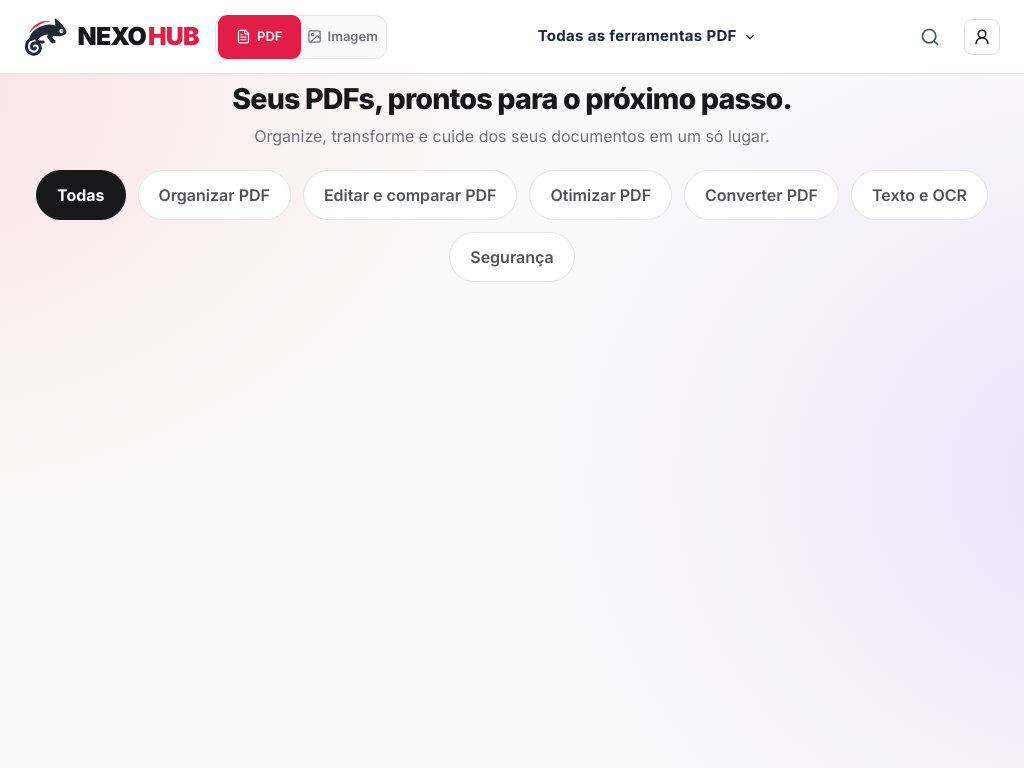
it: App › filtra as ferramentas pelas categorias do topo
Click the button "Organizar PDF": (214, 195) [138,170,291,220]
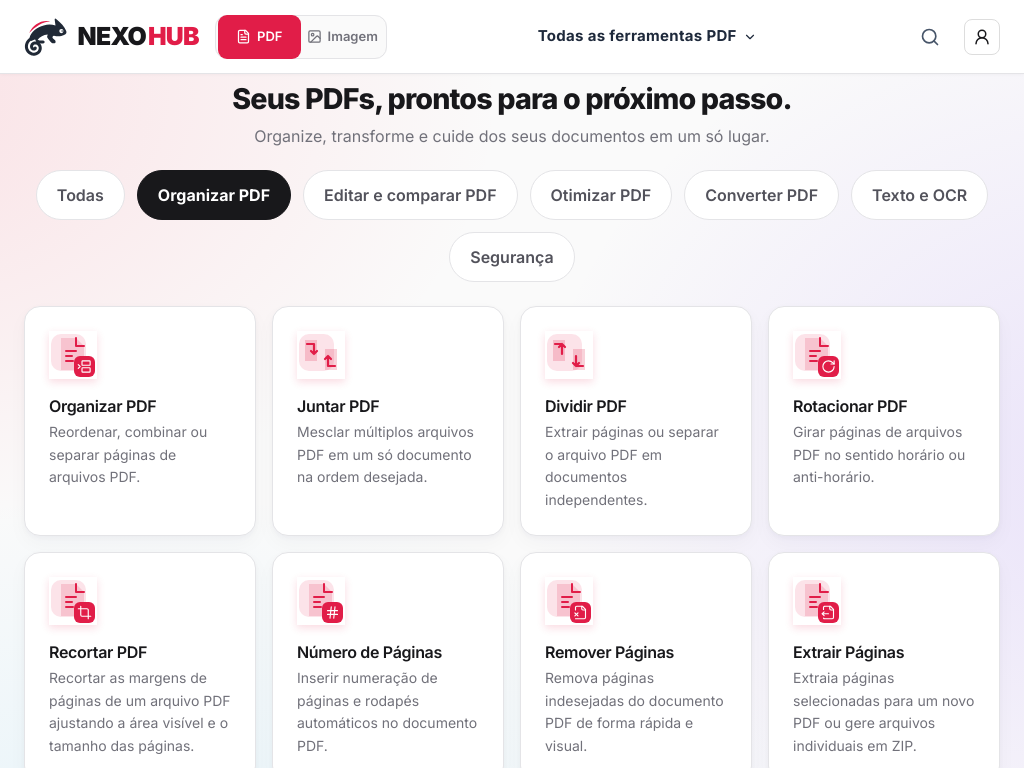
Expected: the heading "Organizar PDF" is shown, [49,396,156,416]
